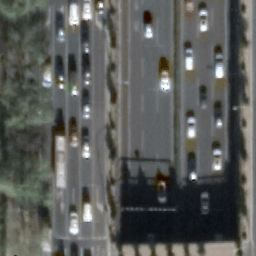car: (55, 132, 67, 188), (212, 144, 223, 170), (157, 177, 168, 203), (199, 189, 210, 215), (68, 207, 79, 233), (81, 133, 92, 159), (42, 63, 53, 88), (68, 1, 79, 26), (186, 112, 196, 138), (159, 69, 170, 92), (143, 17, 154, 40), (81, 98, 92, 121), (69, 123, 80, 146), (82, 199, 93, 222), (56, 67, 67, 90), (82, 65, 93, 88), (70, 73, 80, 97), (184, 46, 193, 70), (199, 7, 208, 31), (215, 53, 224, 77), (82, 1, 92, 21), (198, 86, 207, 108), (56, 23, 66, 42), (215, 106, 223, 127), (96, 1, 105, 15), (82, 42, 90, 55)
